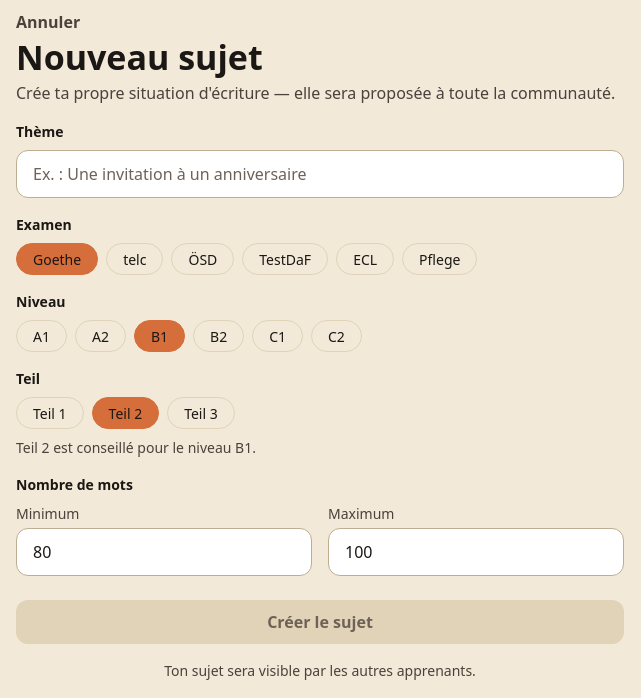
Test case: CustomPromptScreen — community prompt authoring (S6 Task 6.7) › server error code db_write_failed renders its mapped copy
The width and height of the screenshot is (641, 698).
In the field with placeholder "Ex. : Une invitation à un anniversaire": (320, 174) x1=16 y1=150 x2=624 y2=198, type "Eine Einladung"
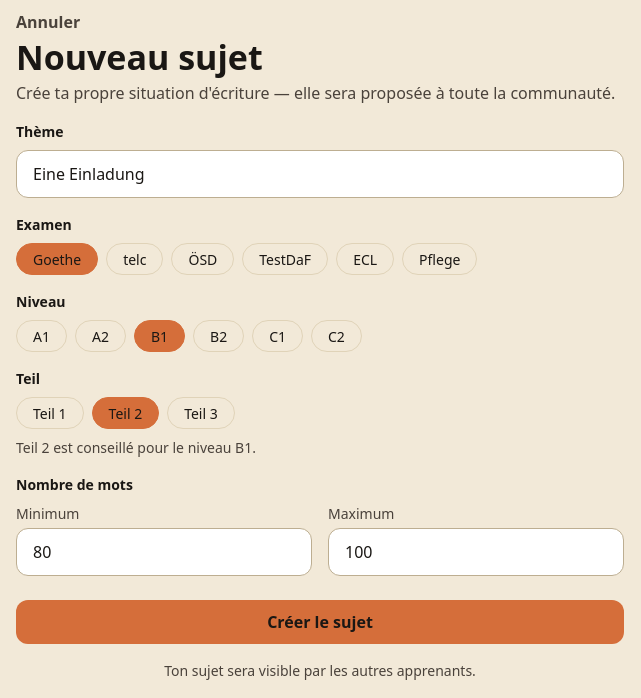
Click the button with test id "schreiben-custom-prompt-submit": (320, 622) x1=16 y1=600 x2=624 y2=644
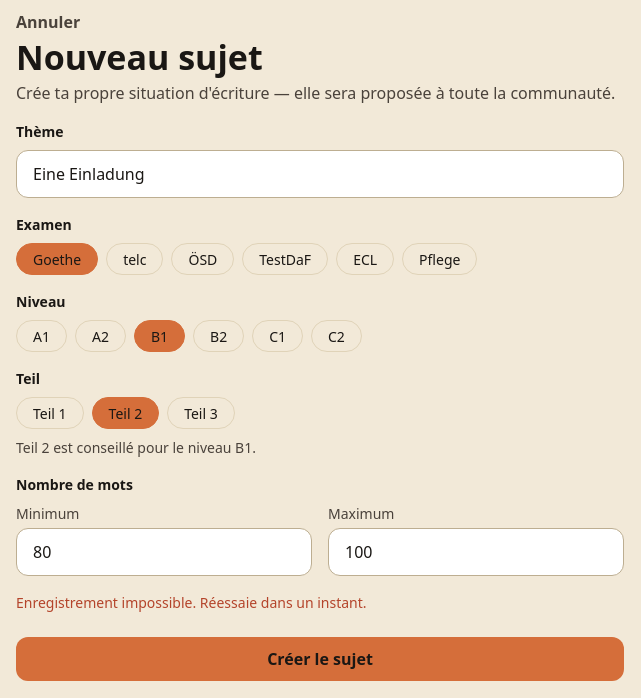
Expected: the message with test id "schreiben-custom-prompt-error" reads "Enregistrement impossible. Réessaie dans un instant.", x1=16 y1=593 x2=366 y2=612
